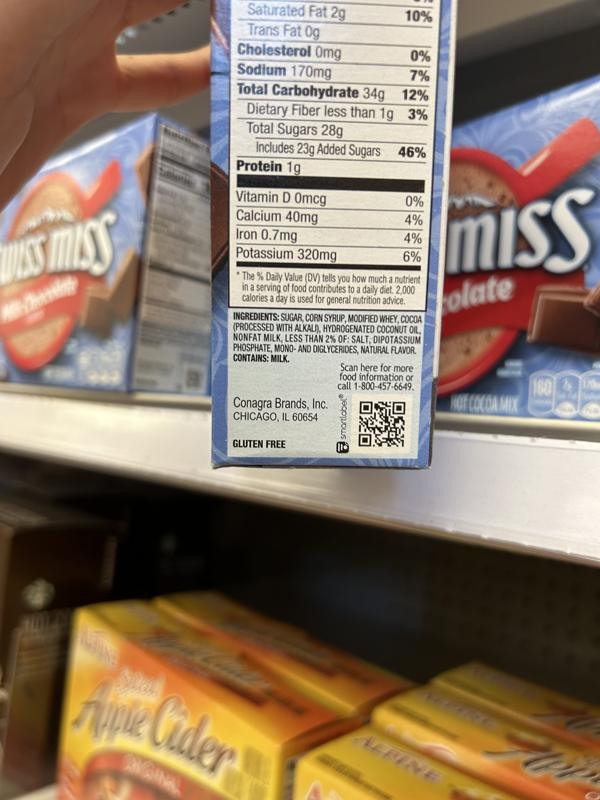ingredients: (231, 310, 423, 353)
